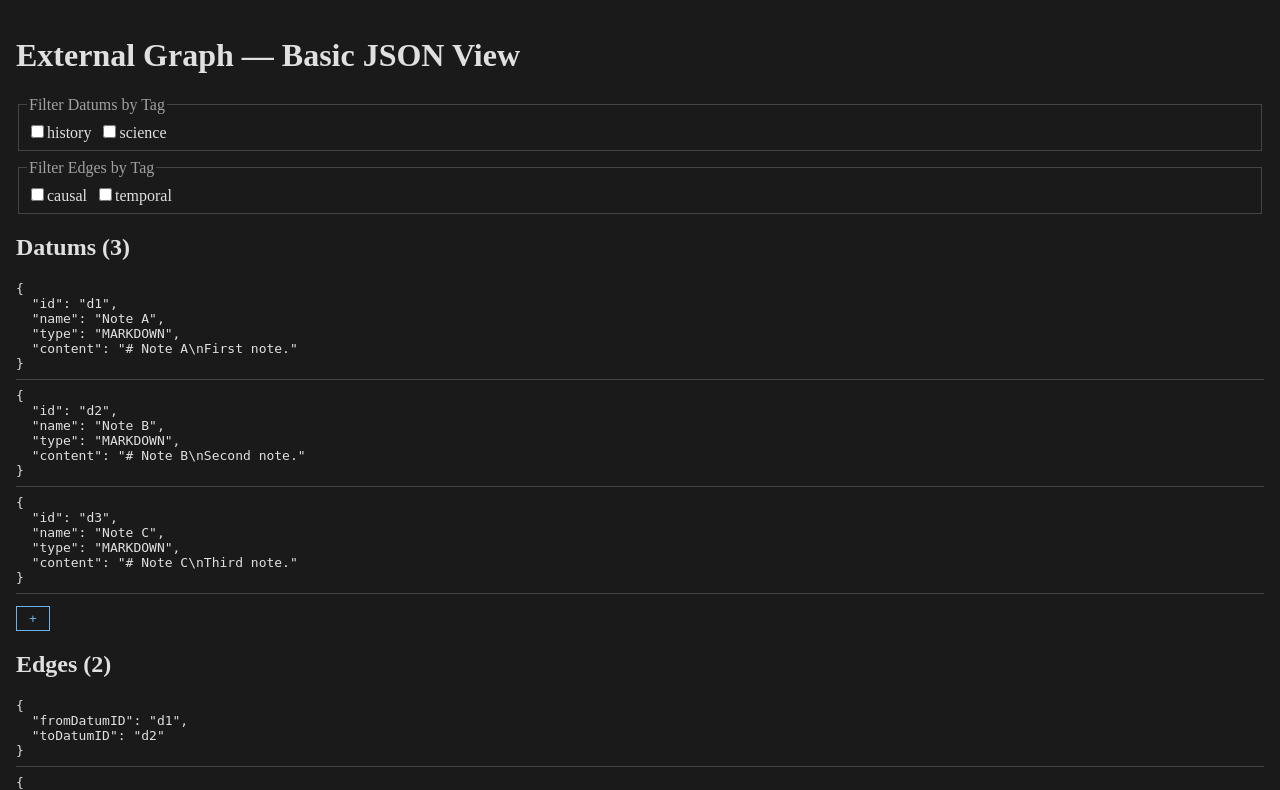
BasicJsonView › filters datums by selected tag
# Select "science" tag — d1 and d2 have this tag
Click the checkbox labelled "science". click: (110, 131)
box: [104,125,116,138]
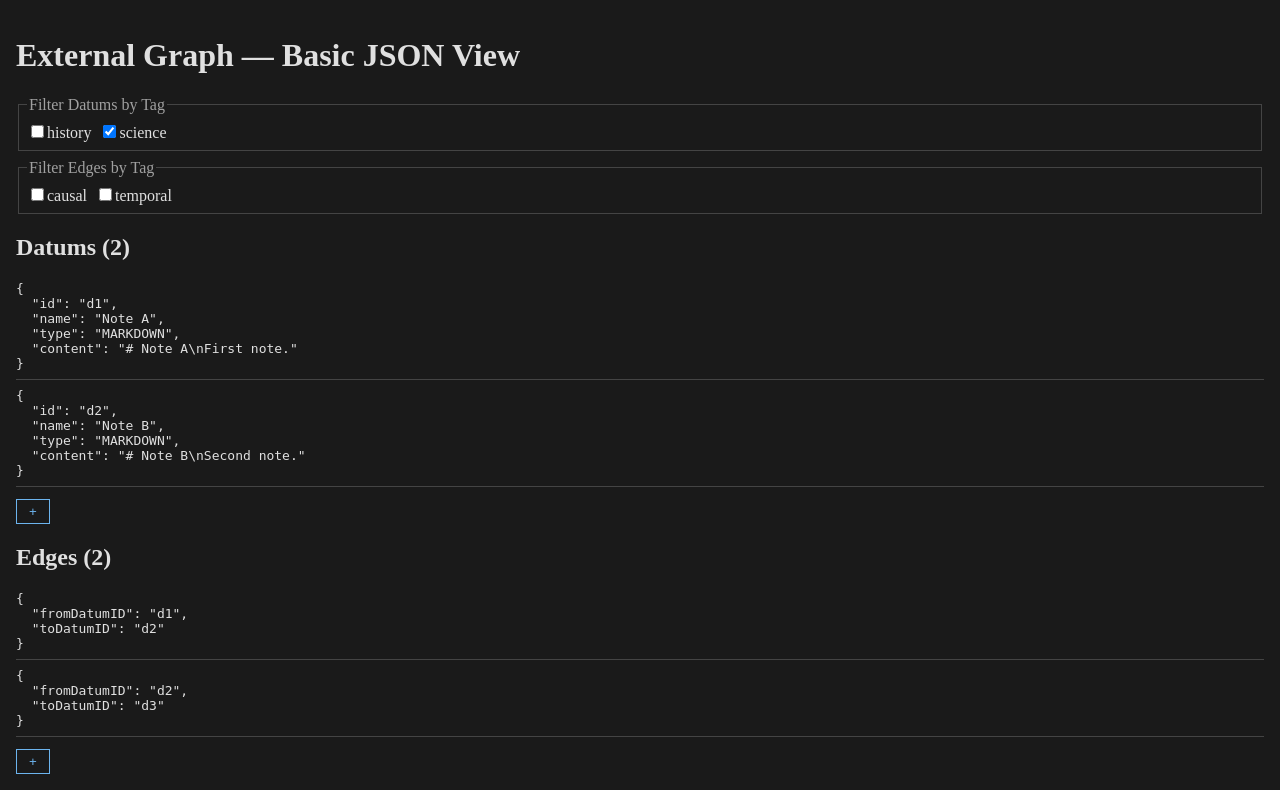
Expected: the element with test id "datums-d1" is shown, [16,281,1264,380]
Result: the heading "Datums (2)" is shown at [16,234,130,260]
Result: the element with test id "datums-d3" is gone
